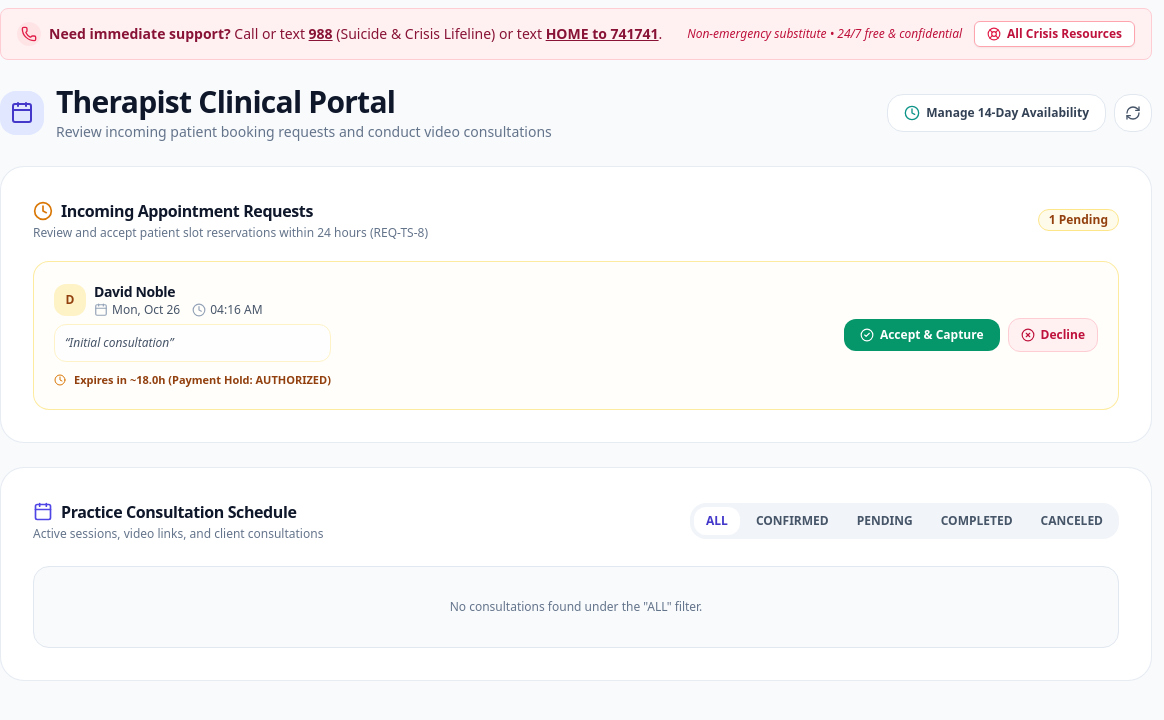
it: Role-Based Access Control & Therapist Management Actions › allows THERAPIST to decline an incoming request and release the slot
The width and height of the screenshot is (1164, 720).
Check: the heading "David Noble" is shown, box [94,282,175,301]
Click the button with test id "decline-request-btn-req-decline-001".
click(1053, 335)  # box [1008,318,1098,352]
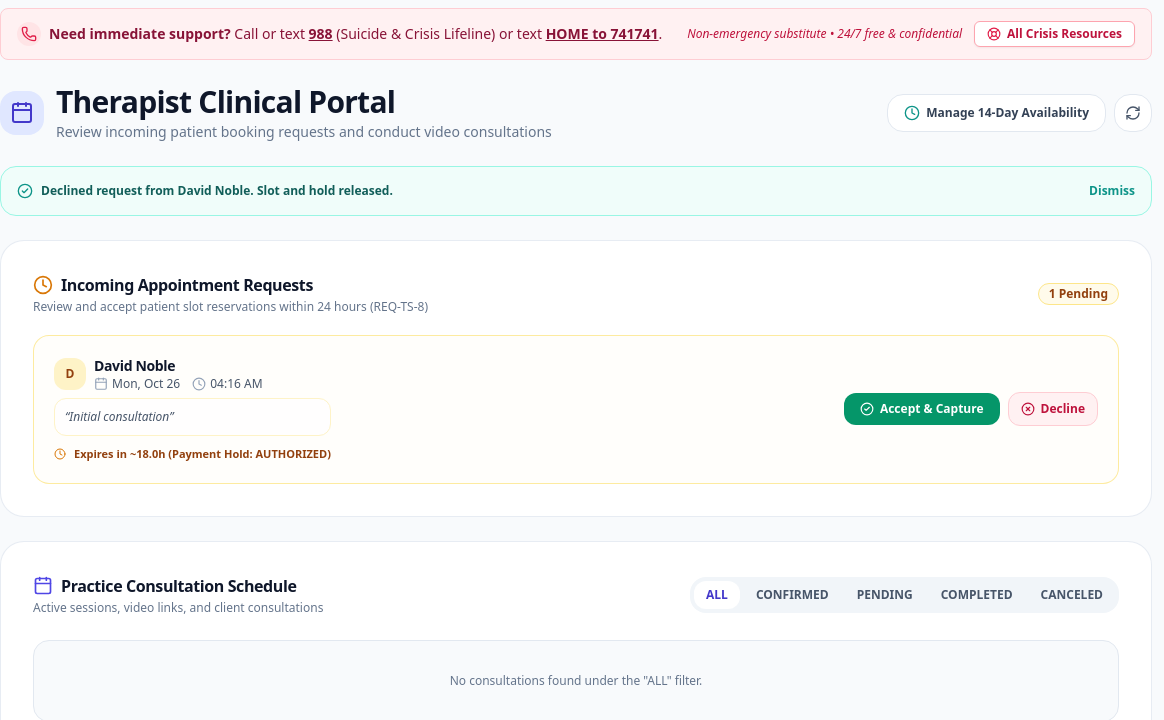
Check: the element with test id "action-feedback-banner" shows "Slot and hold released", box [41,182,393,199]
